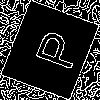P: (25, 25, 83, 73)
